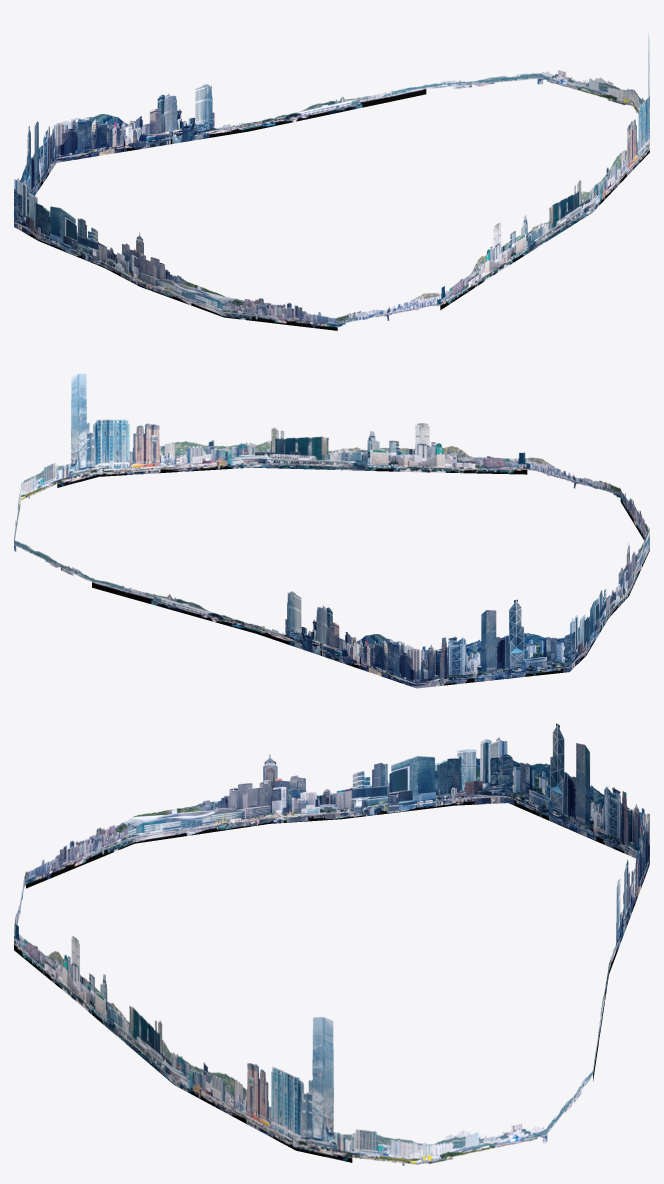
File: backdrop1024.glb
3 views of the same model, one above another, from view 1: azimuth 30°, elevation 25°; view 2: azimuth 150°, elevation 25°; view 3: azimuth 270°, elevation 25° (orthographic). The views are drawn at different scales.
Parts seen in each view (by area): view 1: backdrop; view 2: backdrop; view 3: backdrop.
Boxes of the visible parts, x1,y1,x2,y2 form: backdrop: (14,33,649,330); backdrop: (14,374,649,688); backdrop: (14,723,649,1165).
Size of the model in its own units: 209 by 40.14 by 153.
1 material, 1 textured.
